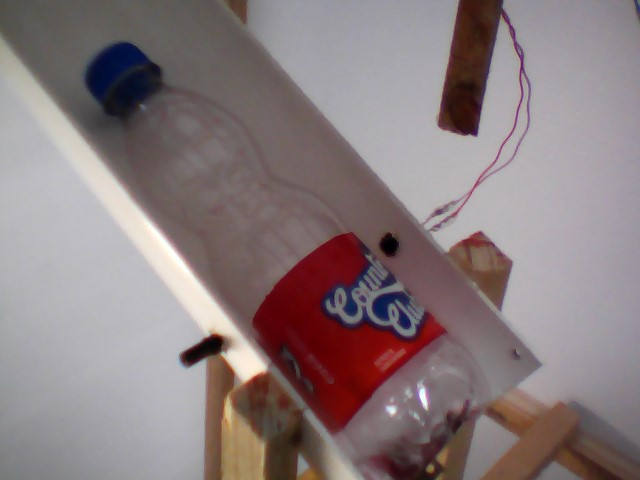plastico: (75, 26, 495, 480)
